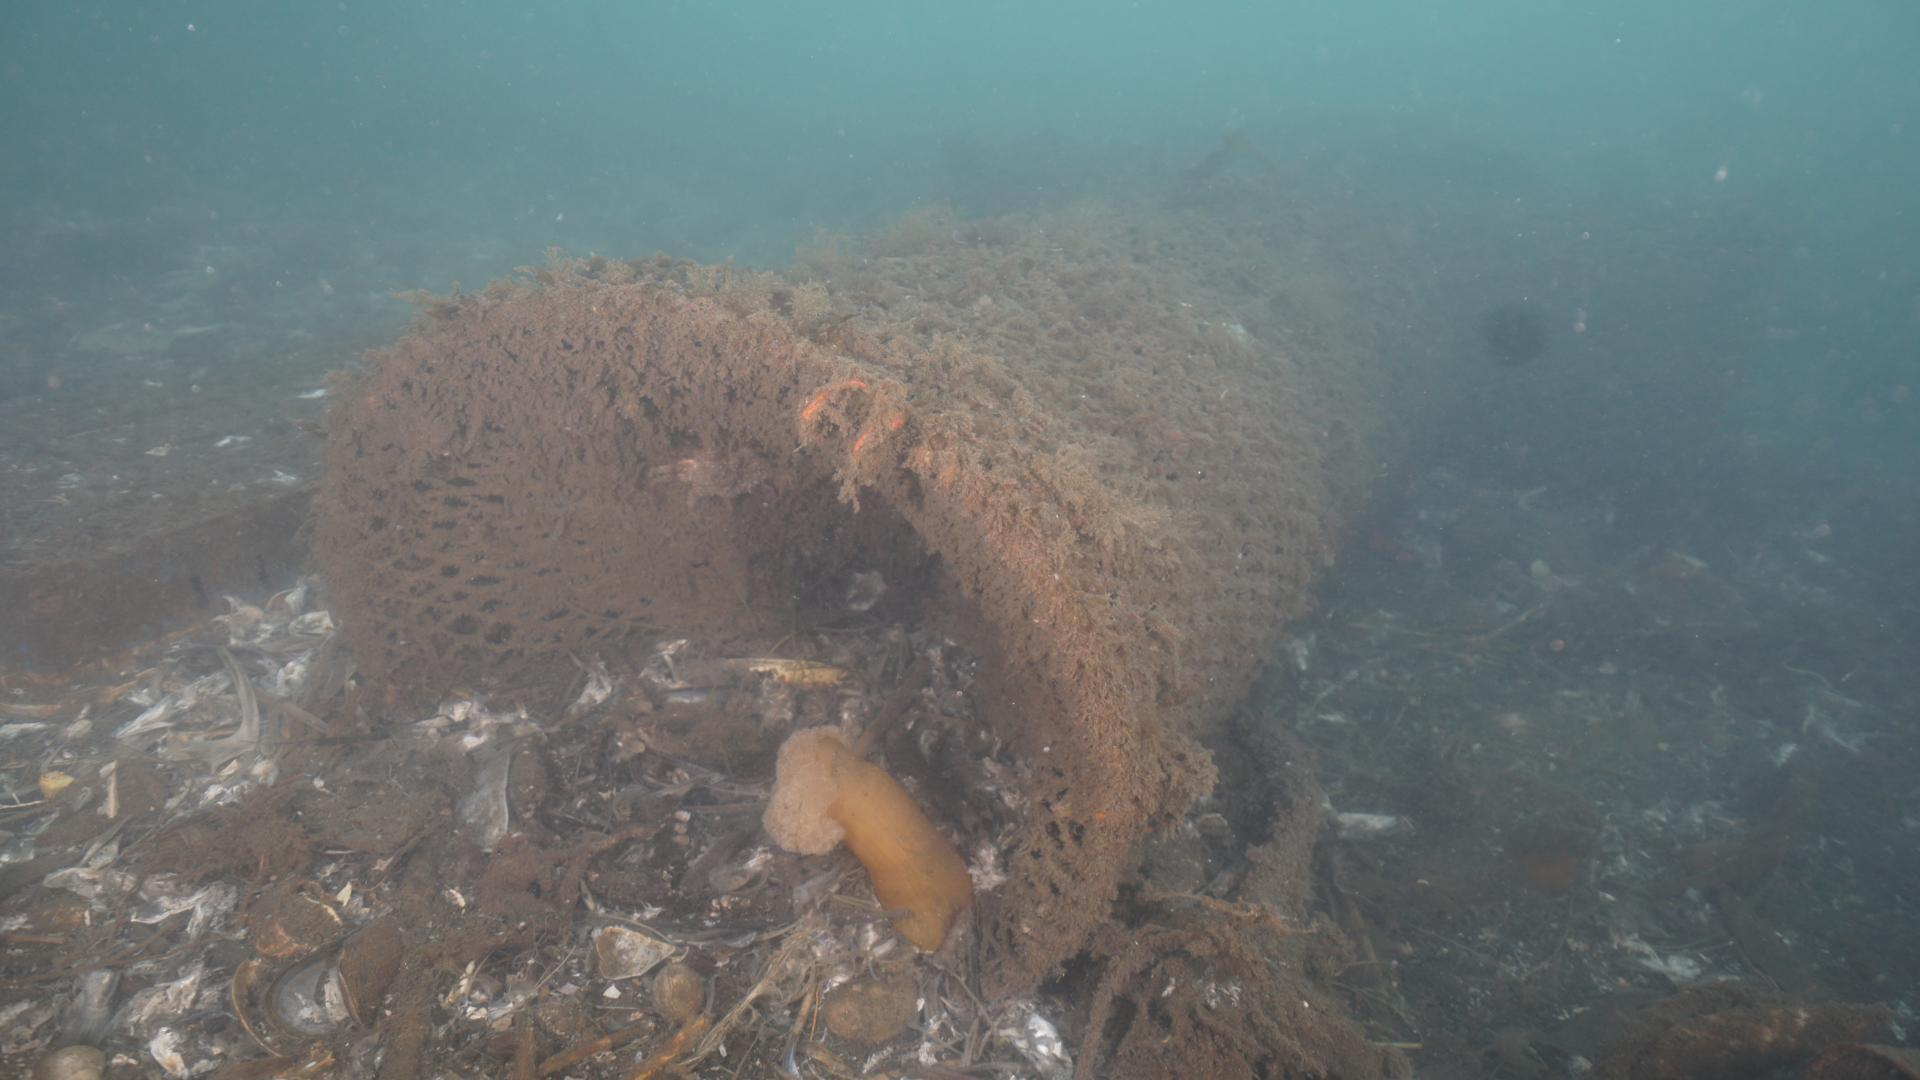spring fish trap: (307, 170, 1505, 1007)
